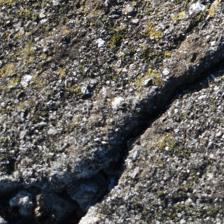Crack: (37, 23, 184, 198)
